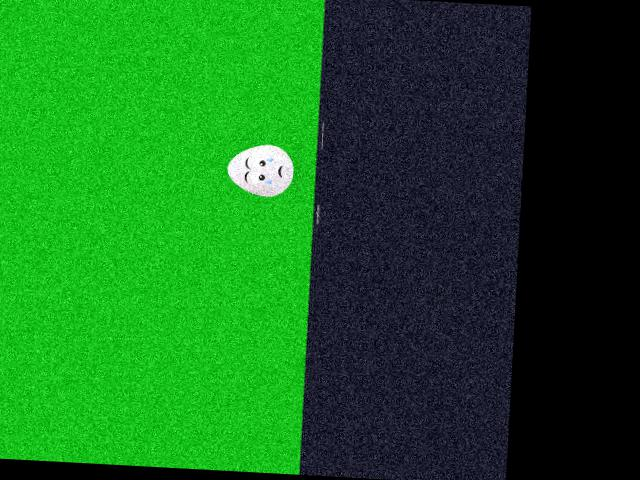egg: (226, 142, 294, 198)
